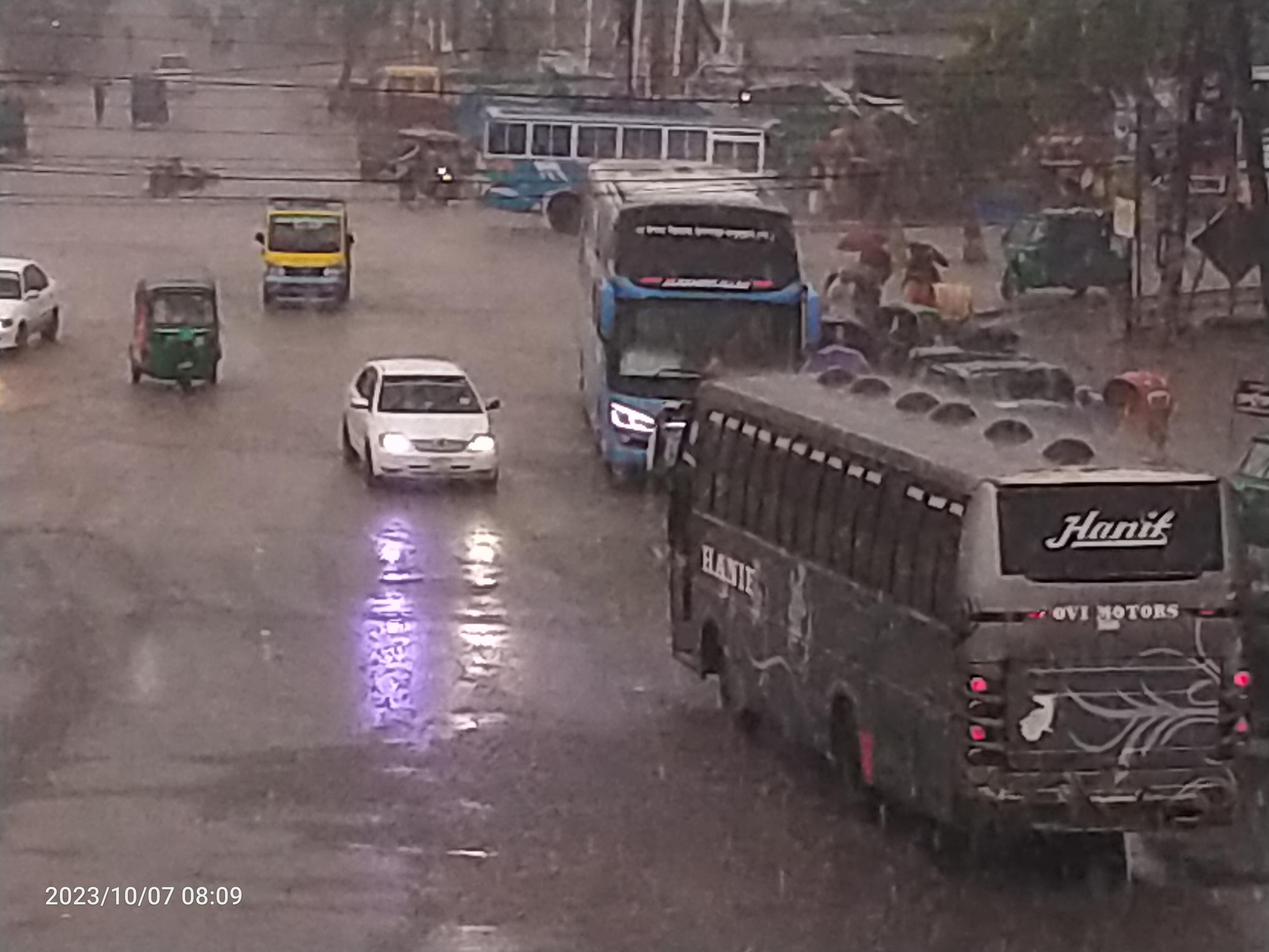Bus: (660, 347, 1269, 837), (565, 143, 835, 509), (458, 74, 837, 243)
Car: (310, 326, 517, 526), (0, 231, 76, 390), (147, 43, 201, 110)
Truck: (239, 162, 393, 326)
